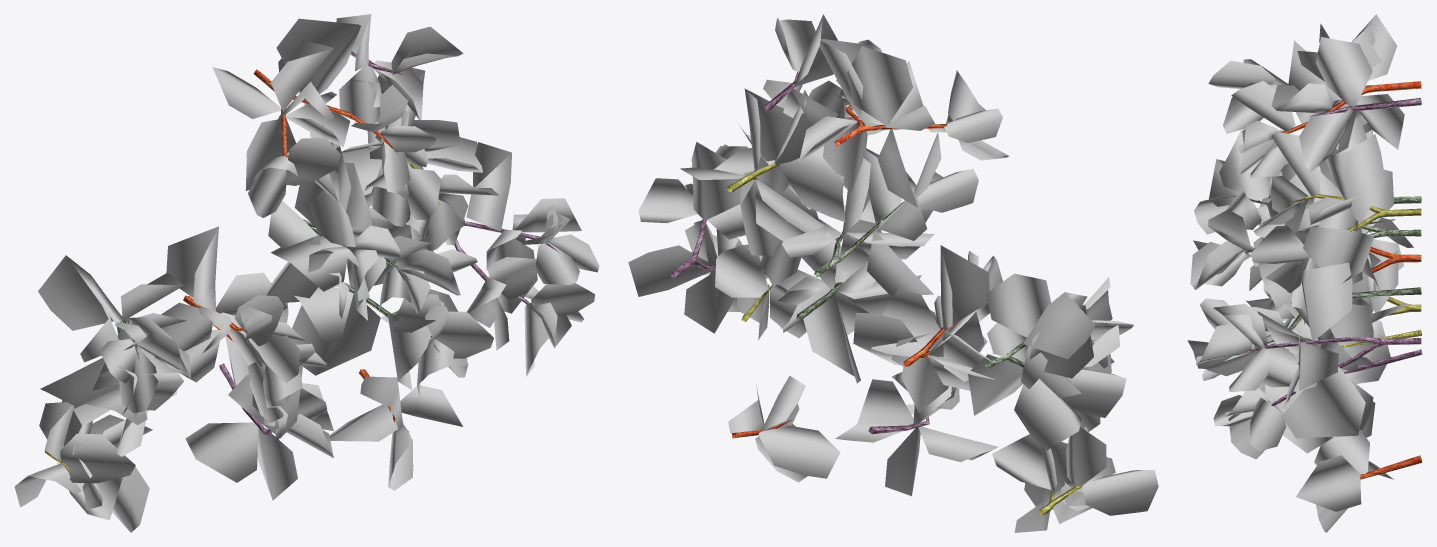
Rendered from FanCoral_Cluster_Low.fbx.
The picture shows the model from 3 angles, left to right: view 1: azimuth 30°, elevation 25°; view 2: azimuth 150°, elevation 25°; view 3: azimuth 270°, elevation 25°; orthographic projection. The views are drawn at different scales.
Parts seen in each view (by area): view 1: LOD0; view 2: LOD0; view 3: LOD0.
Part boxes in pixels (x1,y1,x2,y2): LOD0: (14,14,599,532); LOD0: (628,14,1158,532); LOD0: (1187,14,1422,532).
Size of the model in its own units: 17.52 by 14.74 by 6.52.
